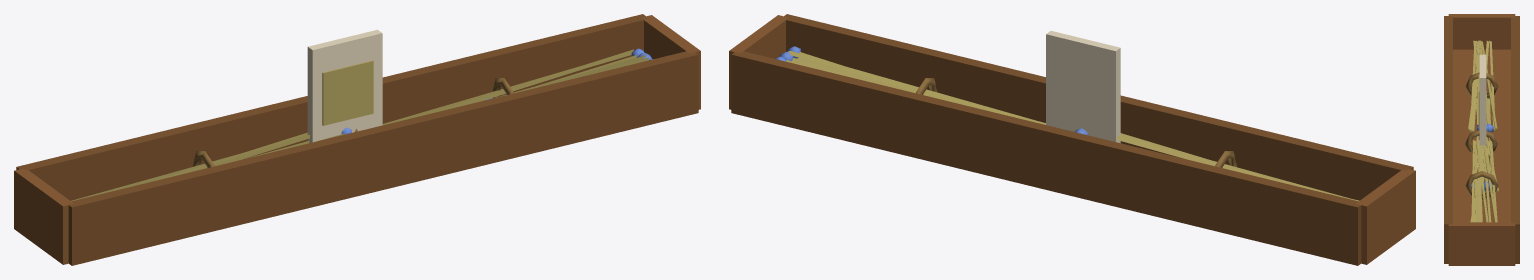
Rendered from Crop_Flax.fbx.
3 views of the same model, side by side, from view 1: azimuth 30°, elevation 25°; view 2: azimuth 150°, elevation 25°; view 3: azimuth 270°, elevation 25° (orthographic). The views are drawn at different scales.
Parts seen in each view (by area): view 1: Crop_Flax__Stack, Crop_Flax__Seed; view 2: Crop_Flax__Stack, Crop_Flax__Seed; view 3: Crop_Flax__Stack, Crop_Flax__Seed, Crop_Flax.
Boxes of the visible parts, x1,y1,x2,y2 form: Crop_Flax__Stack: (14, 14, 700, 265); Crop_Flax__Seed: (307, 29, 382, 143); Crop_Flax__Stack: (729, 14, 1415, 265); Crop_Flax__Seed: (1046, 31, 1120, 143); Crop_Flax__Stack: (1444, 14, 1519, 265); Crop_Flax__Seed: (1478, 54, 1486, 148); Crop_Flax: (1465, 98, 1498, 191).
Bounding box in the file's own units: 0.4564 × 0.09 × 0.0688.
